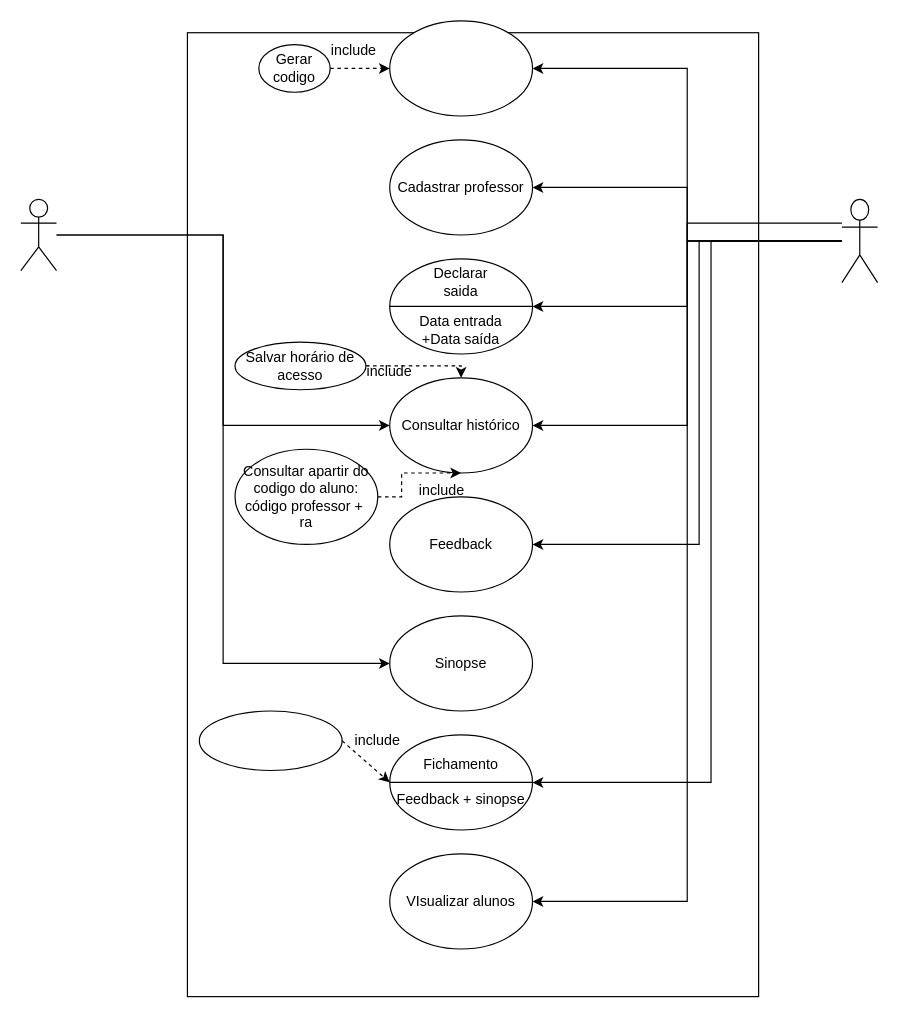
The diagram is 910 pixels wide and 1017 high, and some of its shapes have lost their labels. The shapes that lost their labels are listed below. From the top down, each one's box as (x1, y1, x2, y2) in pixels, then its label:
(389, 20, 533, 116): Cadastrar aluno
(20, 198, 57, 271): Aluno
(841, 198, 878, 283): Professor
(198, 710, 342, 771): Salva no histórico do aluno
